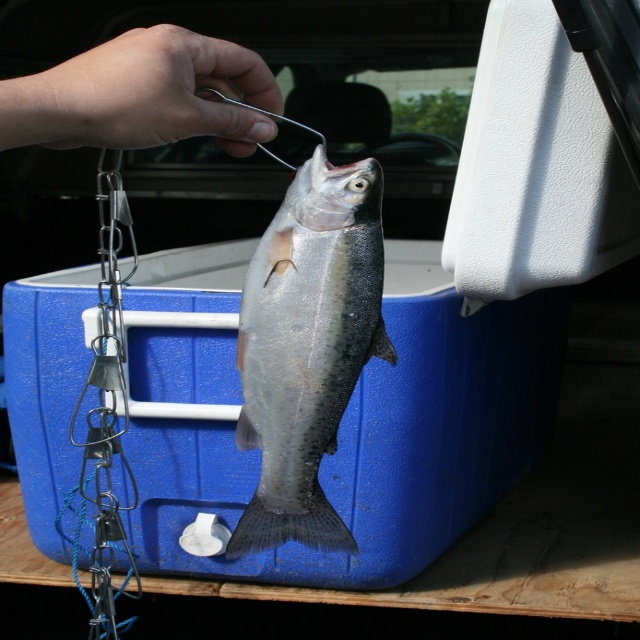Fish: (214, 121, 408, 560)
